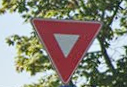cedeaza: (30, 16, 102, 84)
